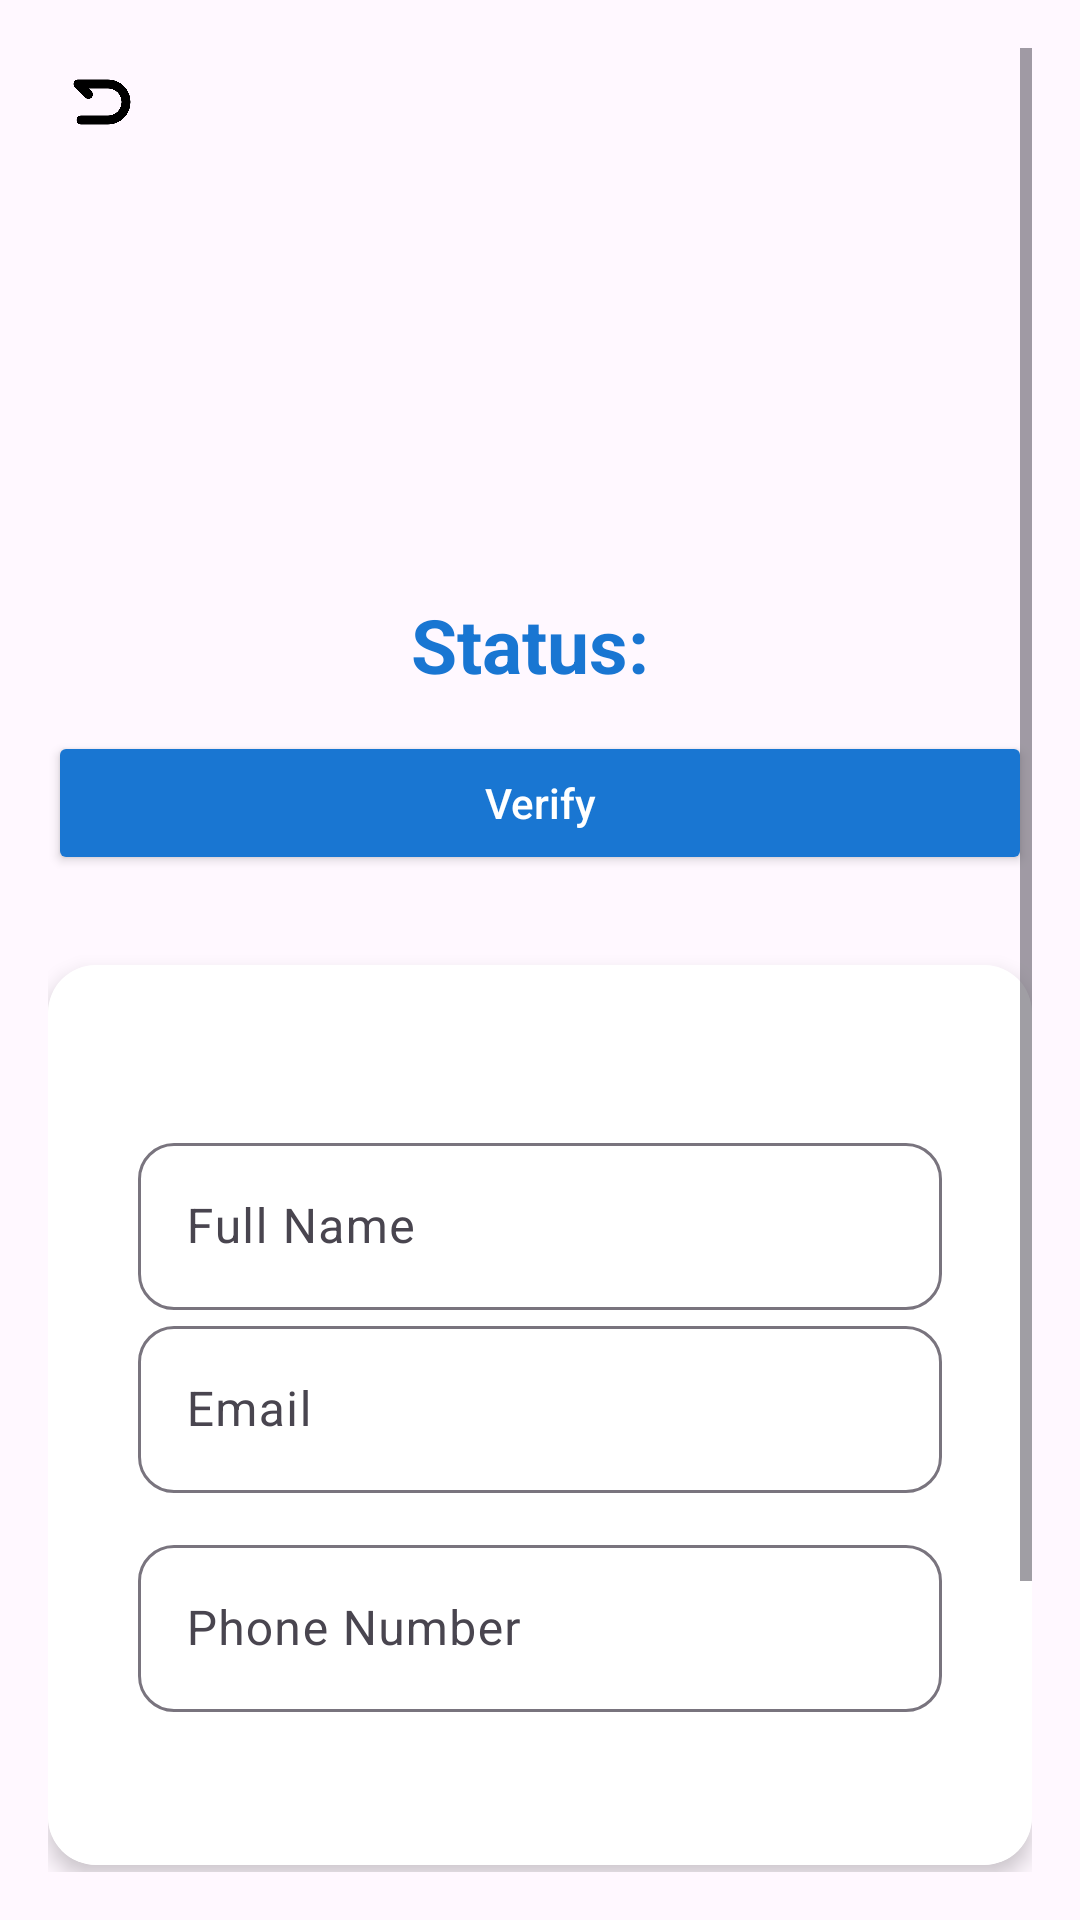

Named icons in this screenshot (1080px x 1920px) and their bounding boxes, (x1, y1, x2, y2):
Back: (73, 79, 131, 125)
